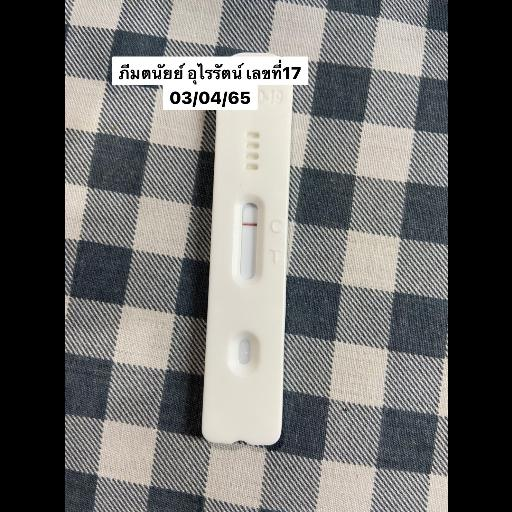Neg: (200, 52, 293, 445)
